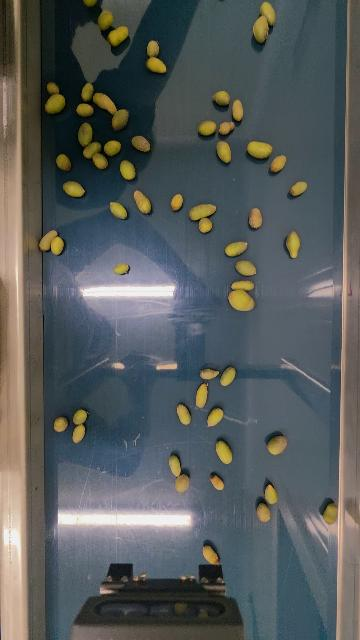Baby Potato: (227, 288, 256, 313), (246, 139, 273, 160), (93, 91, 117, 114), (252, 15, 270, 44), (285, 230, 302, 260), (39, 227, 59, 252), (188, 203, 217, 220), (107, 25, 129, 47), (44, 93, 66, 115), (133, 189, 152, 214), (215, 439, 233, 465), (267, 434, 288, 456), (111, 108, 130, 131), (224, 240, 248, 258), (77, 121, 94, 146), (216, 139, 233, 164), (145, 56, 168, 74), (63, 180, 86, 198), (260, 1, 277, 25), (194, 382, 209, 409), (248, 206, 264, 231), (82, 140, 103, 159), (202, 544, 220, 566), (235, 259, 257, 277), (97, 8, 114, 31), (230, 97, 246, 121), (131, 134, 151, 153), (206, 406, 224, 427), (197, 119, 218, 137), (230, 278, 257, 292), (119, 159, 136, 181), (322, 502, 338, 525), (176, 403, 192, 426), (109, 201, 128, 220), (220, 366, 237, 387), (269, 154, 287, 173), (71, 423, 87, 444), (256, 502, 272, 523), (264, 483, 279, 505), (212, 89, 231, 106), (289, 180, 308, 197), (168, 454, 182, 477), (75, 102, 95, 118), (103, 140, 121, 157), (56, 153, 72, 172), (80, 82, 95, 102), (175, 473, 190, 493), (53, 415, 69, 433), (50, 236, 64, 256), (199, 367, 220, 380), (72, 408, 88, 425), (197, 216, 214, 232), (93, 152, 109, 169), (218, 120, 236, 135), (146, 39, 160, 58), (209, 474, 224, 490), (112, 262, 129, 276), (170, 193, 183, 211), (46, 81, 60, 94), (82, 0, 98, 7)
